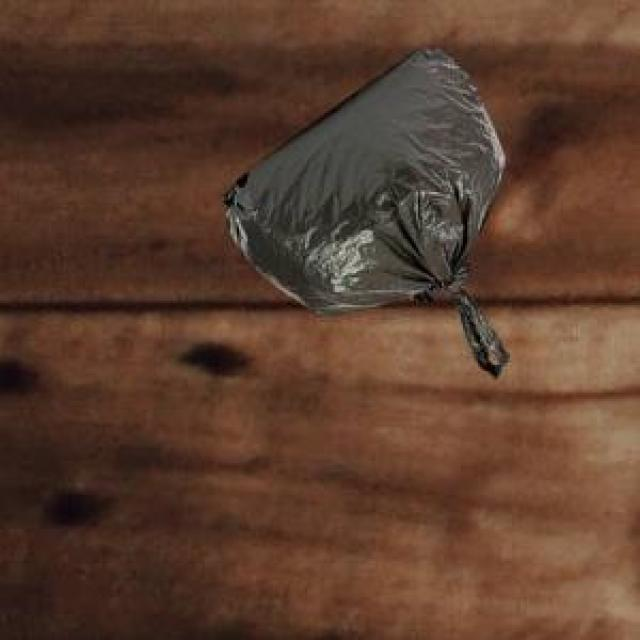waste: (225, 50, 509, 376)
